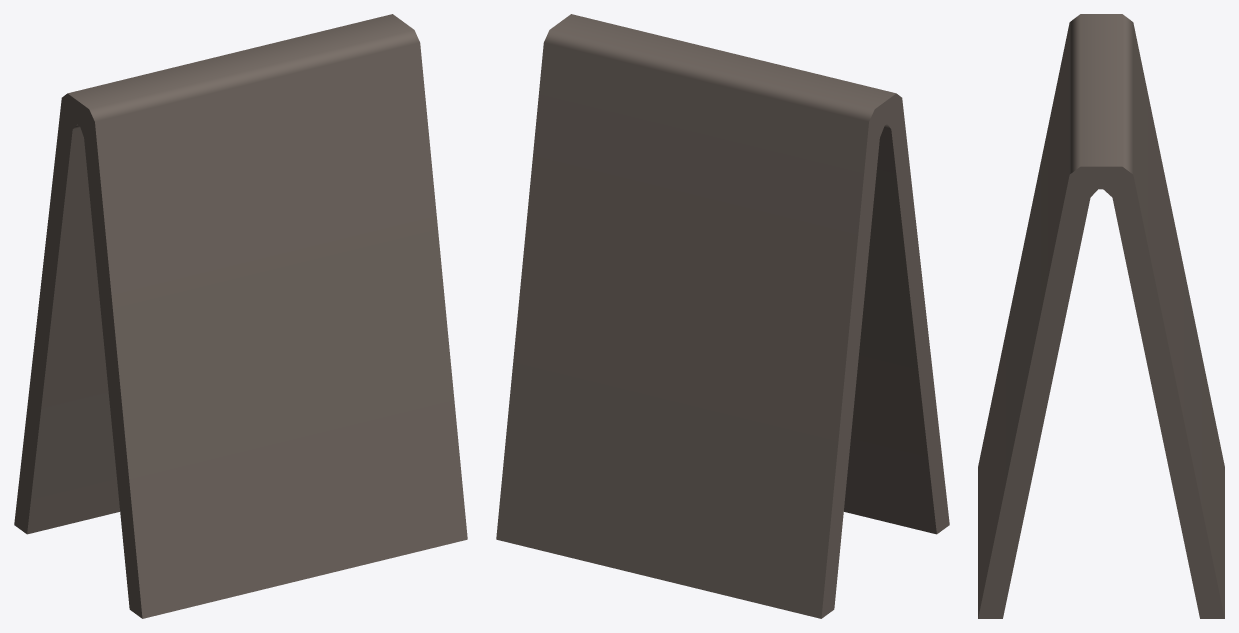
The model's file is FoldingSign_01.fbx.
3 renders of one model, left to right at view 1: azimuth 30°, elevation 25°; view 2: azimuth 150°, elevation 25°; view 3: azimuth 270°, elevation 25°, orthographic. The views are drawn at different scales.
Parts seen in each view (by area): view 1: FoldingSign_01; view 2: FoldingSign_01; view 3: FoldingSign_01.
Boxes of the visible parts, x1=… form: FoldingSign_01: x1=14, y1=14, x2=467, y2=618; FoldingSign_01: x1=496, y1=14, x2=949, y2=618; FoldingSign_01: x1=978, y1=14, x2=1224, y2=618.
Size of the model in its own units: 373 by 515 by 255.
